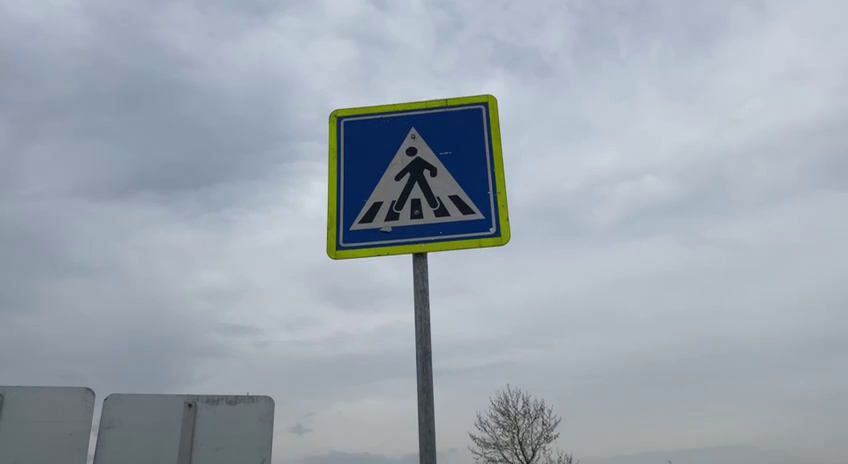pedestrianCrossing: (325, 93, 512, 261)
